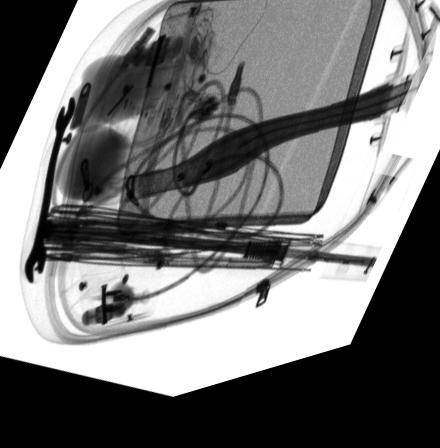Wrench: (23, 101, 75, 286)
